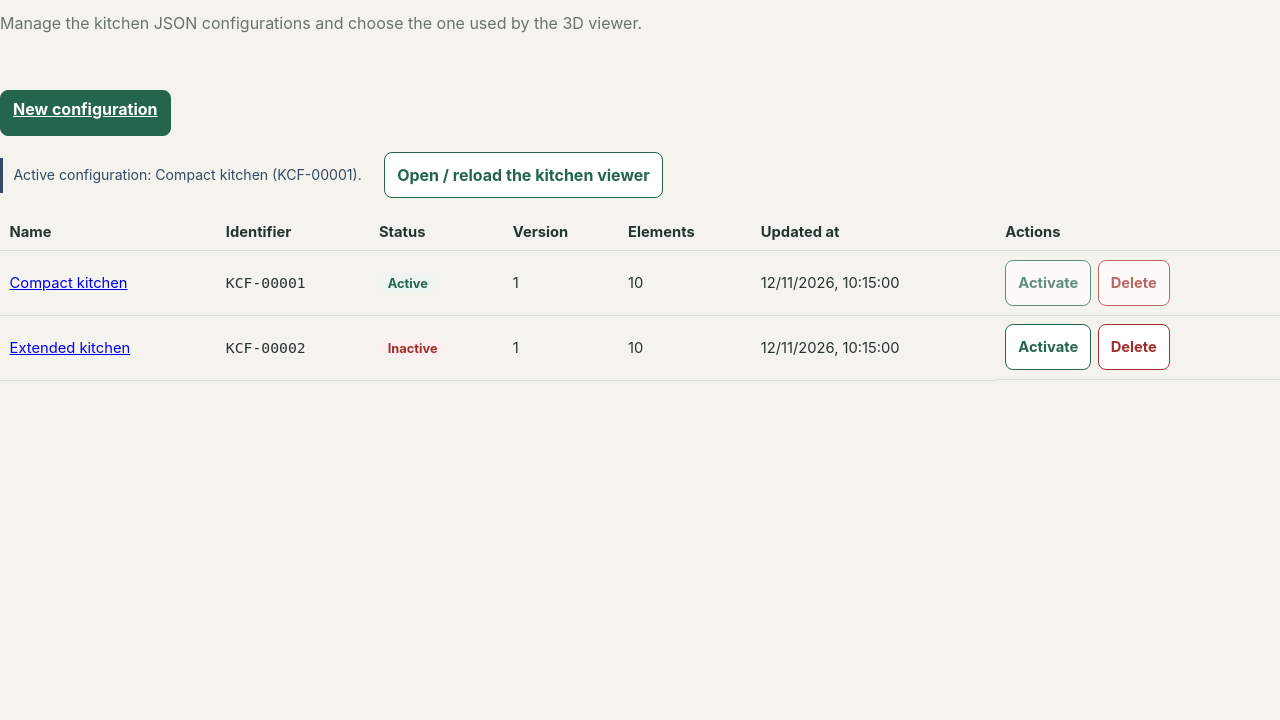
WEB06 KitchenConfigurationListPage › a failed activation (422) keeps the previous active one and explains it
The image size is (1280, 720).
Click the button "Activate" in the row of "Extended kitchen".
click(1048, 347)  # box [1005,324,1091,370]
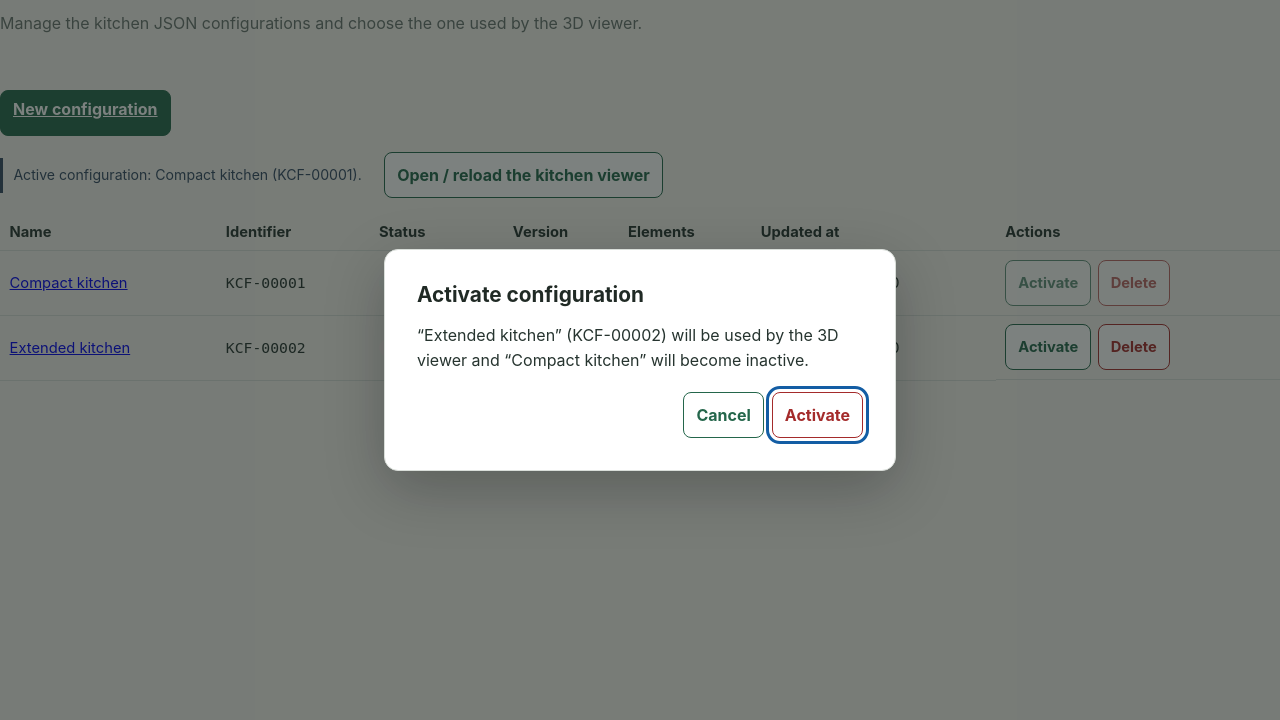
Click the button with class "button--danger" showing "Activate".
click(817, 415)  # box [772,392,863,438]
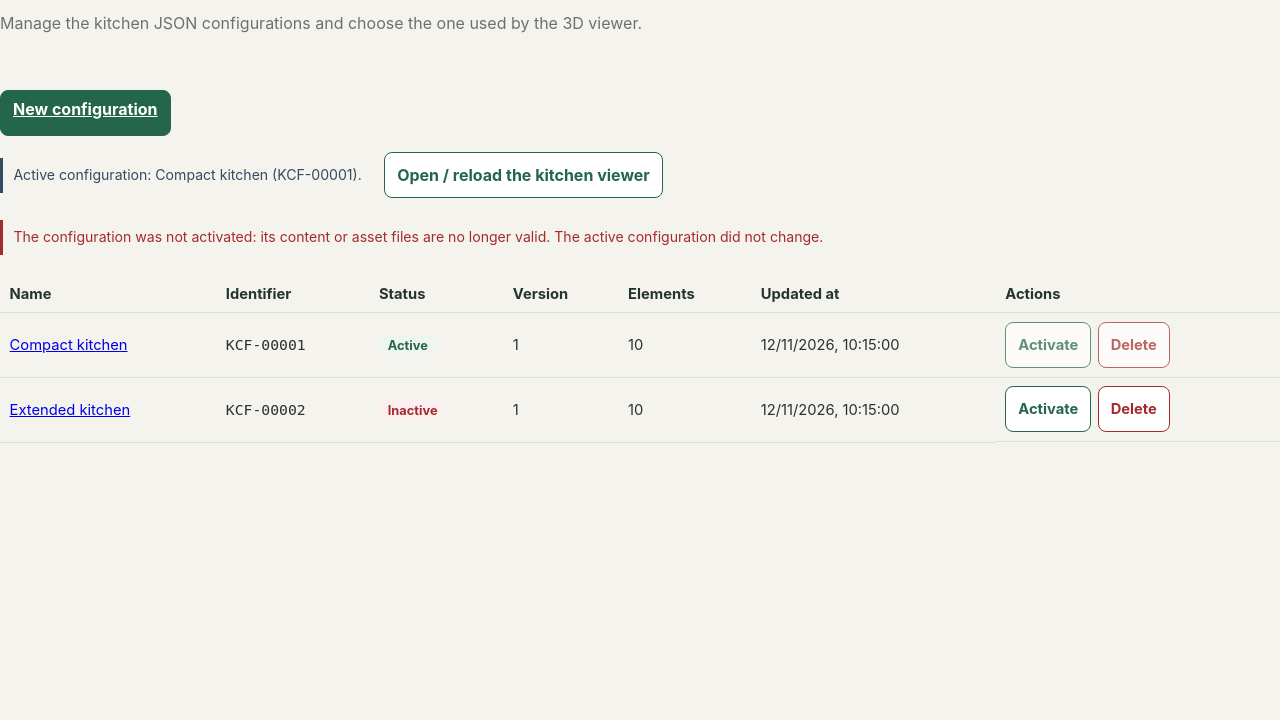
Expected: the text "Active configuration: Compact kitchen (KCF-00001)." is shown, [0,158,372,193]
Now the text "The active configuration did not change." is shown, box [13,228,823,245]
